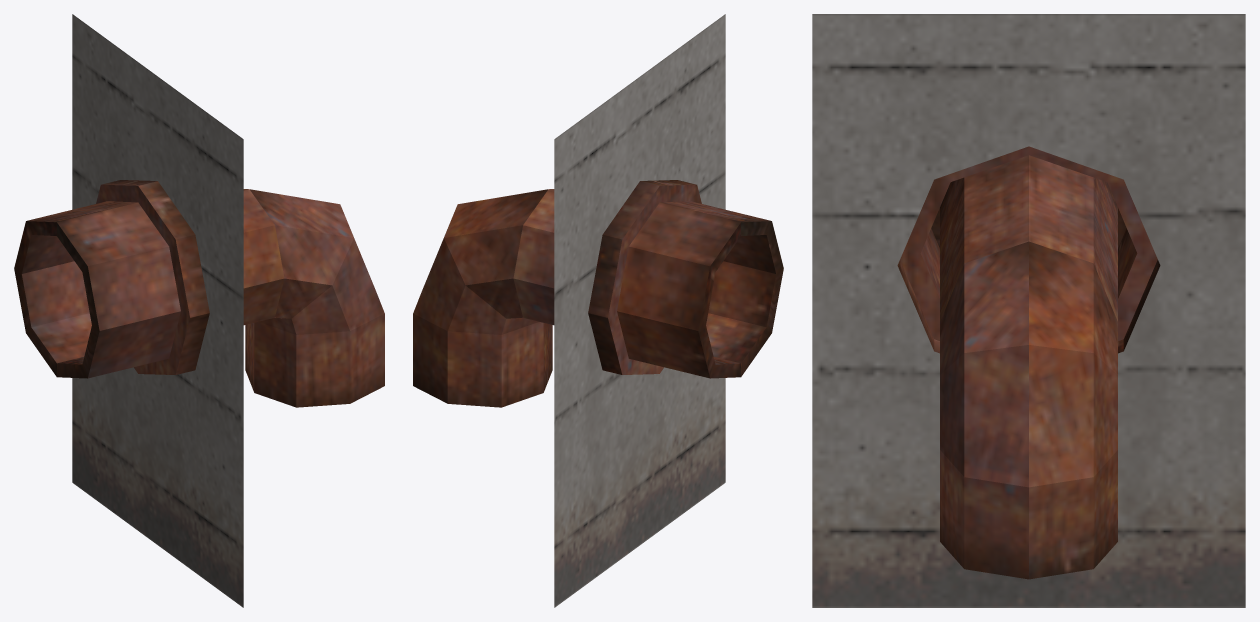
Rendered from MESH_ESGOTO_WALL_OUTPIPE.fbx.
3 renders of one model, left to right at view 1: azimuth 30°, elevation 25°; view 2: azimuth 150°, elevation 25°; view 3: azimuth 270°, elevation 25°, orthographic. The views are drawn at different scales.
Visible parts, largest first — view 1: MESH_ESGOTO_WALL_OUTPIPE; view 2: MESH_ESGOTO_WALL_OUTPIPE; view 3: MESH_ESGOTO_WALL_OUTPIPE.
Part boxes in pixels (x1,y1,x2,y2): MESH_ESGOTO_WALL_OUTPIPE: (14, 14, 384, 607); MESH_ESGOTO_WALL_OUTPIPE: (413, 14, 783, 607); MESH_ESGOTO_WALL_OUTPIPE: (812, 14, 1245, 607).
Size of the model in its own units: 3.23 by 4.54 by 3.
